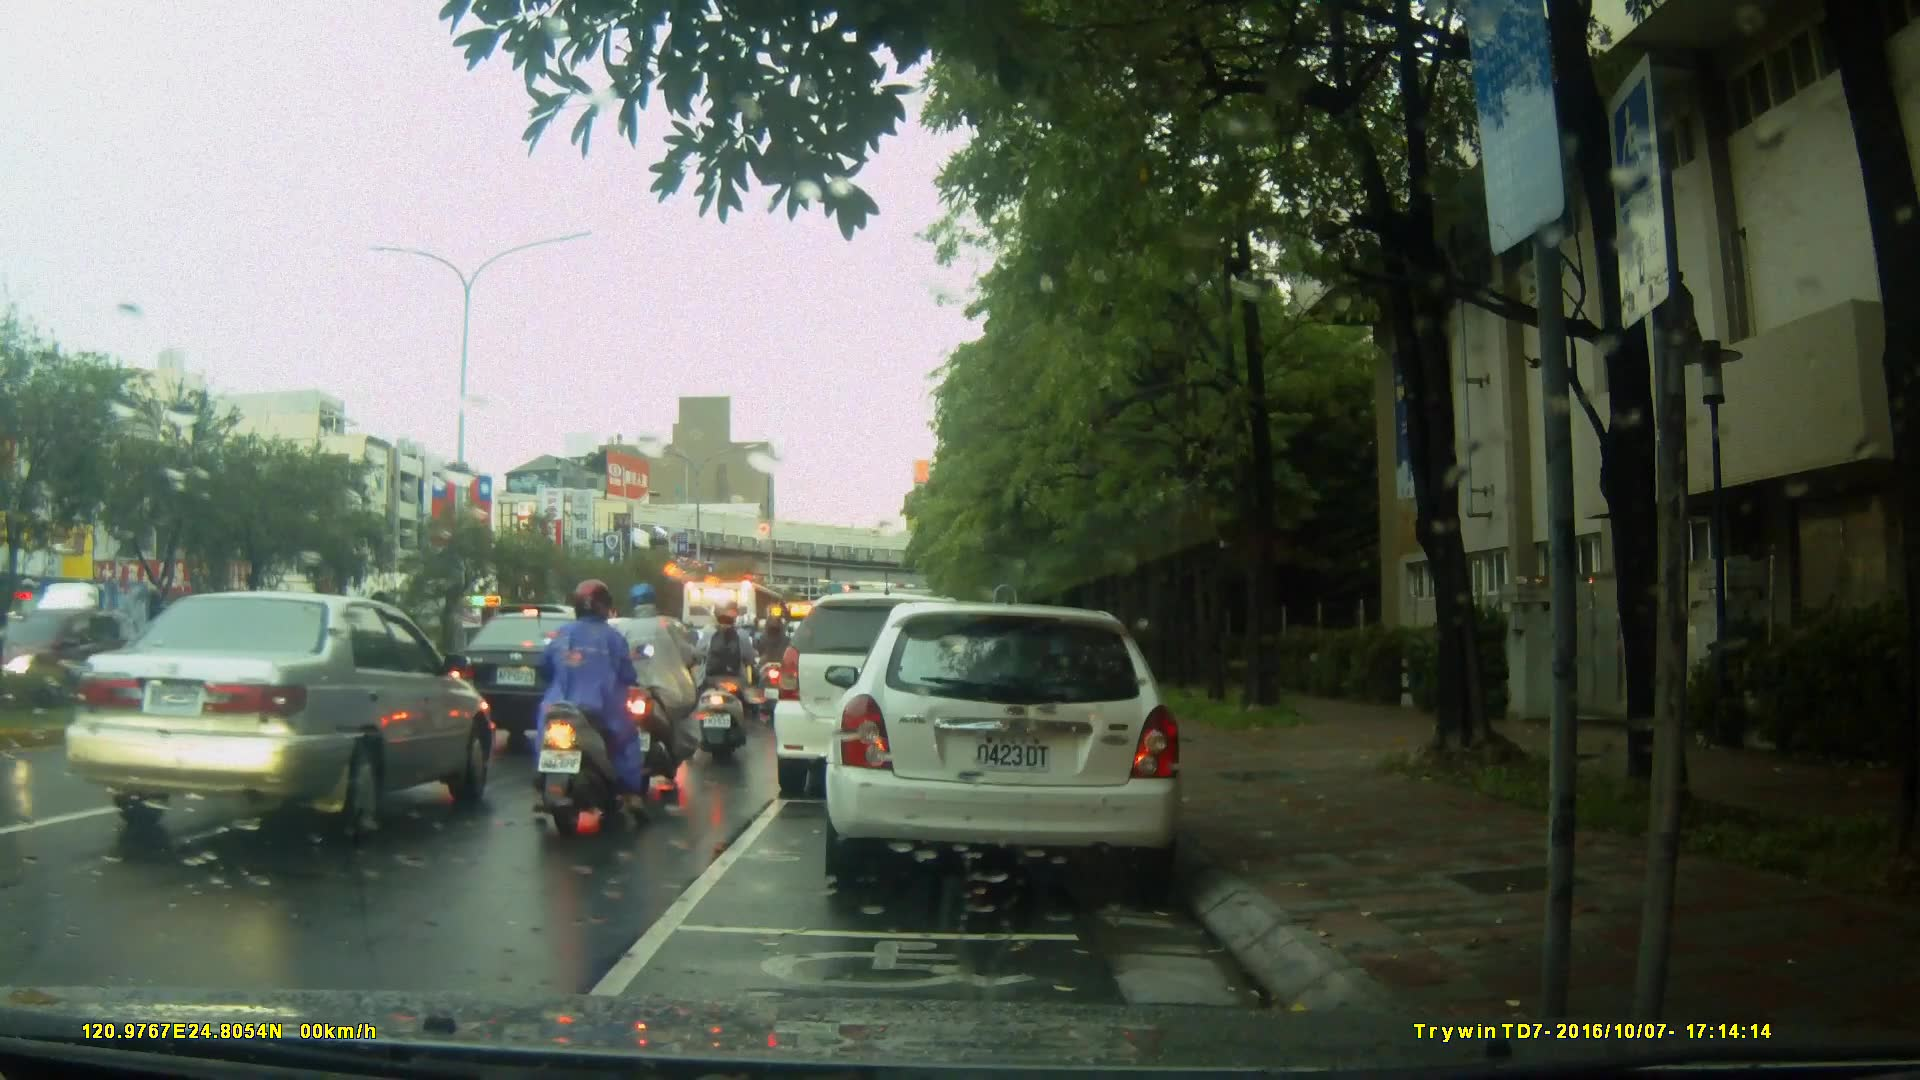rider: (528, 577, 644, 837), (626, 583, 709, 781), (689, 599, 754, 748), (756, 612, 795, 718)
vehicle: (831, 592, 1196, 897), (66, 589, 500, 844), (769, 592, 999, 800), (444, 609, 625, 740), (680, 580, 801, 705), (4, 604, 136, 715)
